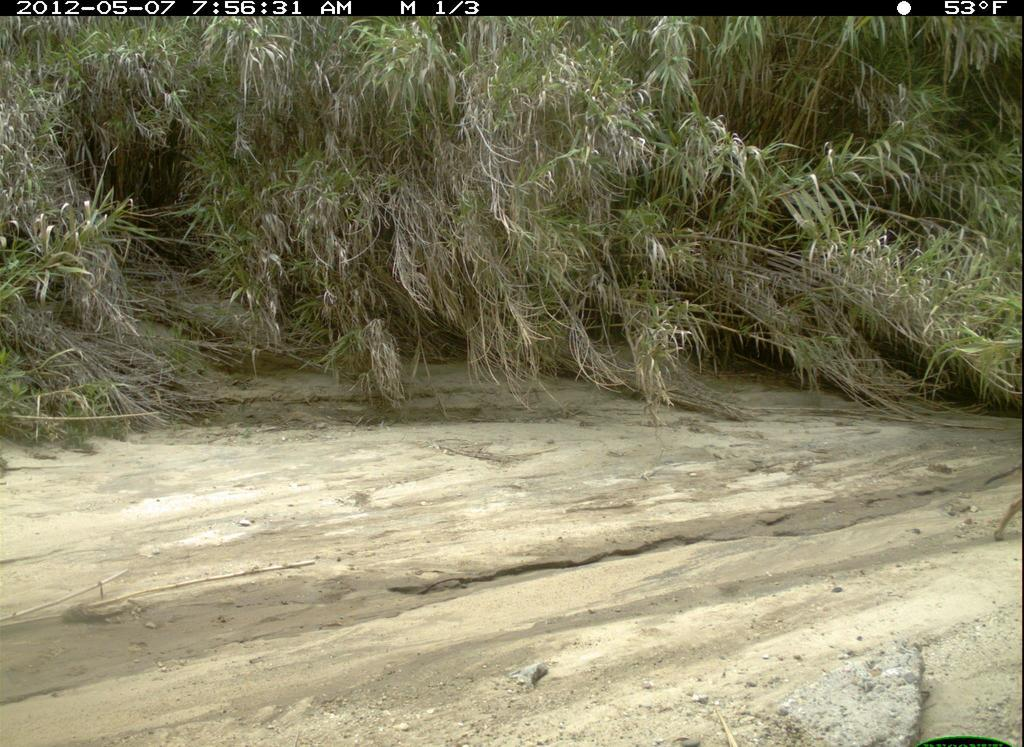coyote: (987, 484, 1022, 545)
